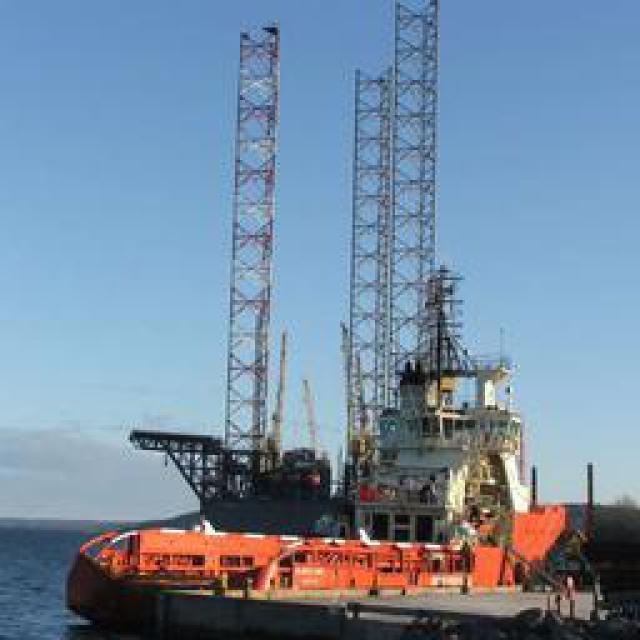Ship: (68, 298, 616, 623)
